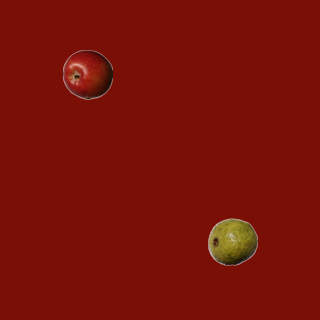Apple Braeburn: (62, 49, 112, 99)
Guava: (207, 216, 257, 266)
